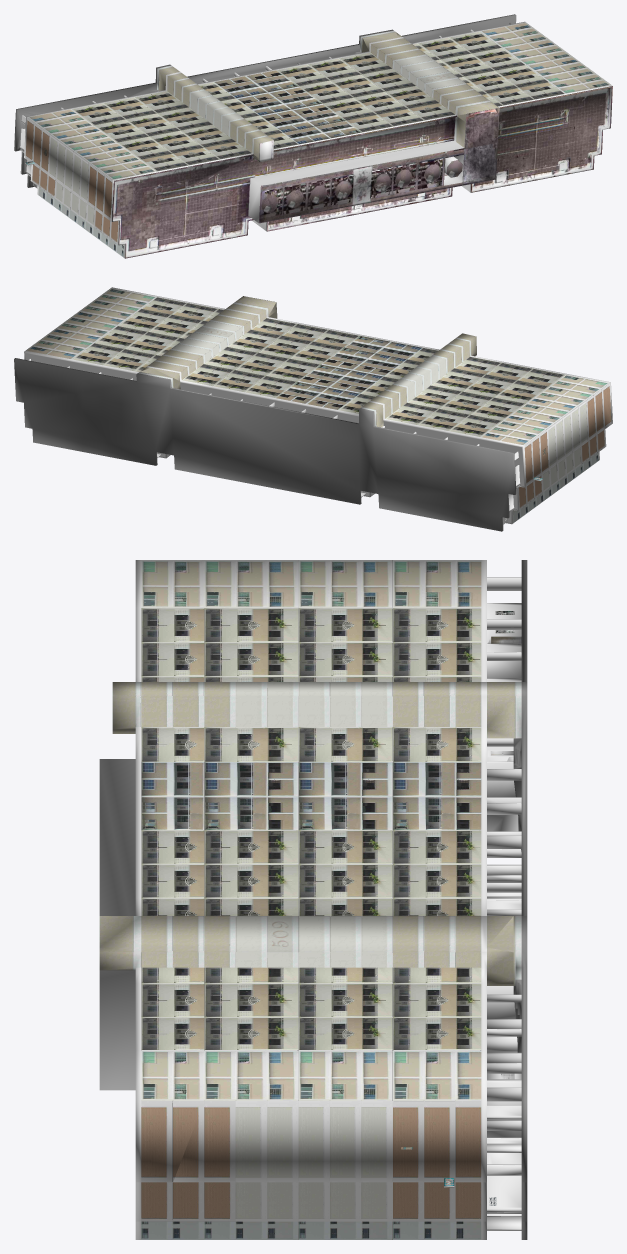
File: amk_blk509_building.obj
The picture shows the model from 3 angles, top to bottom: view 1: azimuth 30°, elevation 25°; view 2: azimuth 150°, elevation 25°; view 3: azimuth 270°, elevation 25°; orthographic projection. The views are drawn at different scales.
Parts seen in each view (by area): view 1: polygon.835; view 2: polygon.835; view 3: polygon.835.
Boxes of the visible parts, x1,y1,x2,y2 form: polygon.835: (14,14,612,258); polygon.835: (14,287,612,531); polygon.835: (99,560,527,1239).
Bounding box in the file's own units: 104 × 21.94 × 37.59.
Materials: 1 (1 with a texture image).
